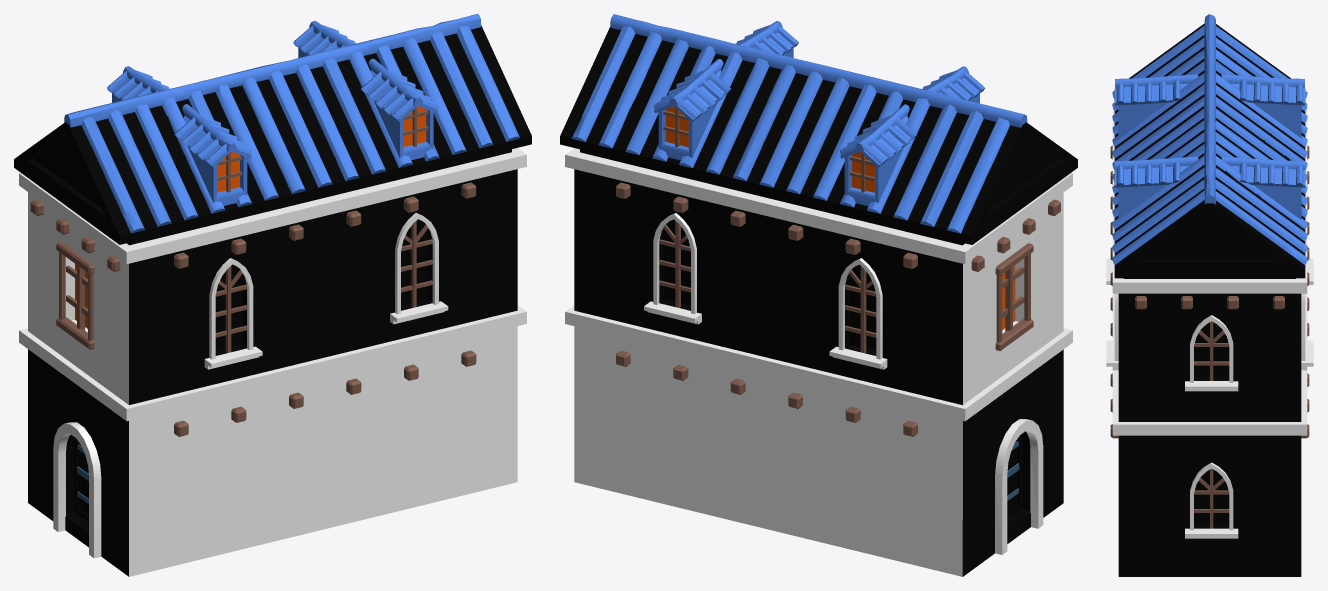
Rendered from civilian_house_34_g.FBX.
3 views of the same model, side by side, from view 1: azimuth 30°, elevation 25°; view 2: azimuth 150°, elevation 25°; view 3: azimuth 270°, elevation 25° (orthographic). The views are drawn at different scales.
Parts seen in each view (by area): view 1: civilian_house_34_g_LOD0; view 2: civilian_house_34_g_LOD0; view 3: civilian_house_34_g_LOD0.
Boxes of the visible parts, left/top/right/bottom form: civilian_house_34_g_LOD0: left=14, top=14, right=531, bottom=576; civilian_house_34_g_LOD0: left=560, top=14, right=1077, bottom=576; civilian_house_34_g_LOD0: left=1106, top=14, right=1313, bottom=576.
Size of what is drawn, in the model's own units: 1061 by 1054 by 511.
